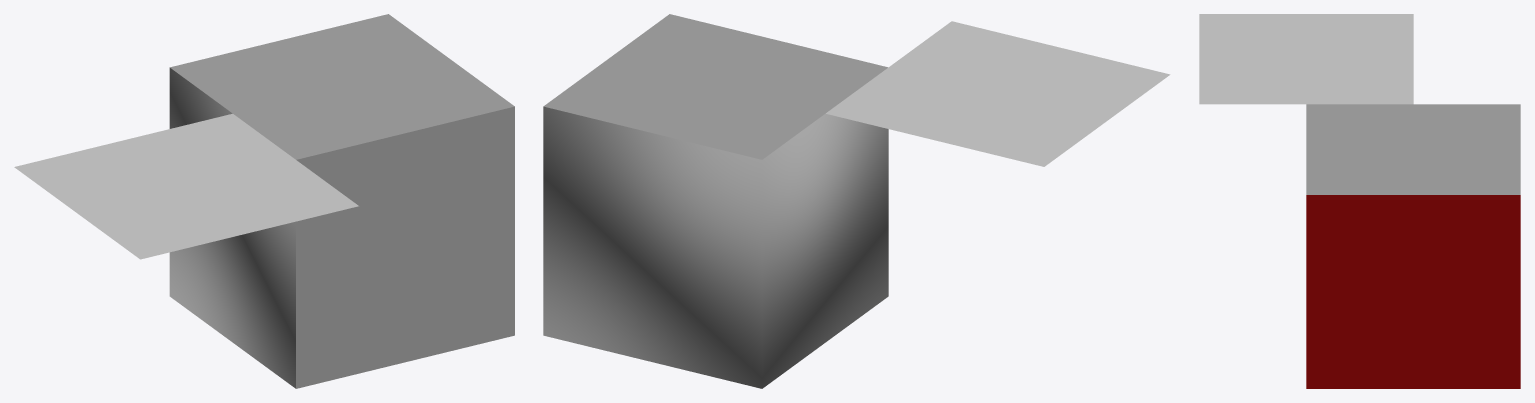
The model's file is example.obj.
3 renders of one model, left to right at view 1: azimuth 30°, elevation 25°; view 2: azimuth 150°, elevation 25°; view 3: azimuth 270°, elevation 25°, orthographic. The views are drawn at different scales.
Visible parts, largest first — view 1: Cube, Plane; view 2: Cube, Plane; view 3: Cube, Plane.
Boxes of the visible parts, left/top/right/bottom form: Cube: left=169, top=14, right=514, bottom=388; Plane: left=14, top=113, right=358, bottom=259; Cube: left=543, top=14, right=888, bottom=388; Plane: left=826, top=21, right=1170, bottom=166; Cube: left=1306, top=104, right=1520, bottom=388; Plane: left=1199, top=14, right=1413, bottom=104.
Size of the model in its own units: 4 by 2 by 3.
